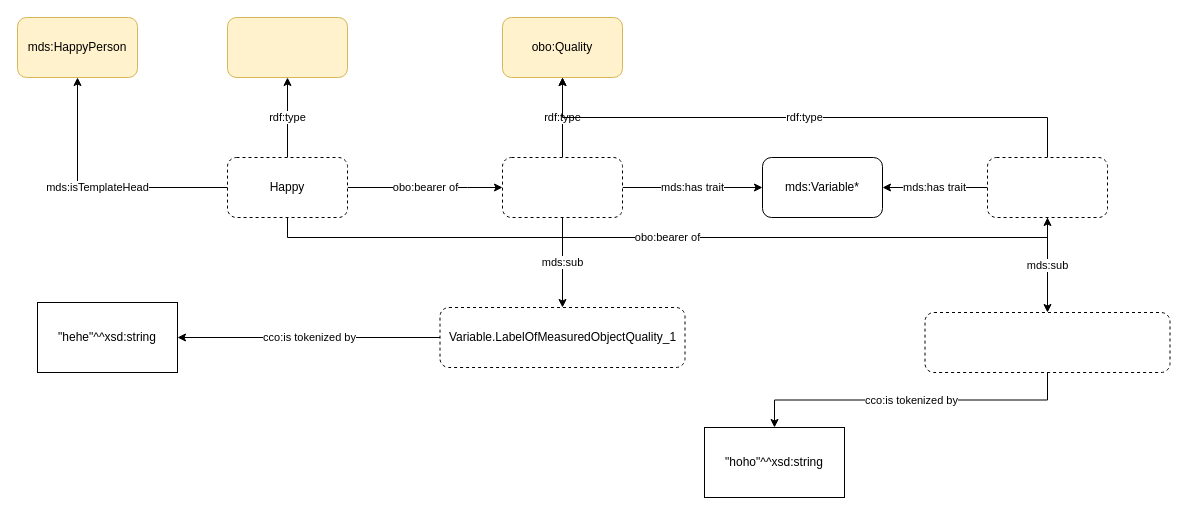
Some shapes in this 1188 by 515 pixel diagram are drawn without their labels. The shapes that lost their labels are listed below. From the top down, each one's box as (x1, y1, x2, y2) in pixels, then its label:
(226, 16, 348, 78): cco:Person
(502, 156, 622, 218): Height of Happy
(986, 156, 1108, 218): Weight of Happy
(924, 312, 1170, 372): Variable.LabelOfMeasuredObjectQuality_2
